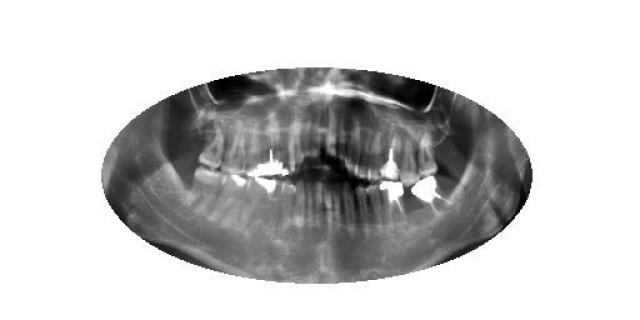Fillings: (235, 175, 276, 236), (208, 175, 252, 226), (246, 125, 260, 177)
Implant: (410, 175, 464, 220), (378, 181, 408, 229), (260, 126, 285, 175), (382, 132, 400, 182)
